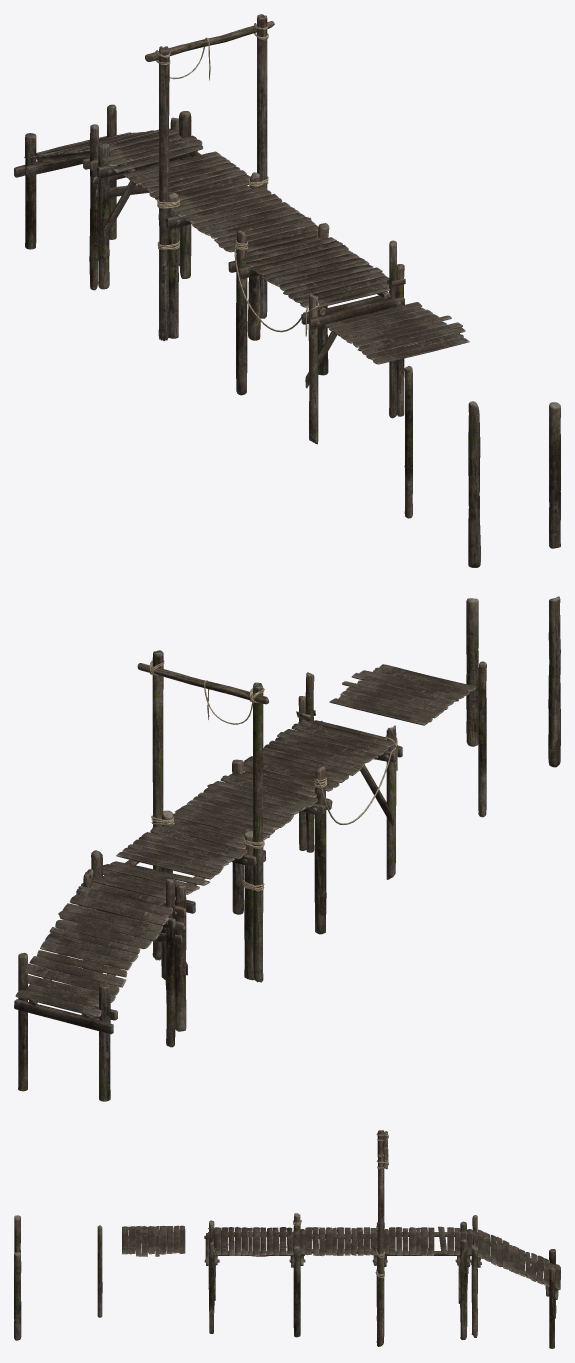
The model's file is pier_kit.glb.
3 views of the same model, one above another, from view 1: azimuth 30°, elevation 25°; view 2: azimuth 150°, elevation 25°; view 3: azimuth 270°, elevation 25° (orthographic). The views are drawn at different scales.
Visible parts, largest first — view 1: modular_wooden_pier_section_01, modular_wooden_pier_section_03, modular_wooden_pier_section_02, modular_wooden_pier_section_05, modular_wooden_pier_section_04, modular_wooden_pier_planks, modular_wooden_pier_poles; view 2: modular_wooden_pier_section_04, modular_wooden_pier_section_01, modular_wooden_pier_section_03, modular_wooden_pier_section_02, modular_wooden_pier_section_05, modular_wooden_pier_poles, modular_wooden_pier_planks; view 3: modular_wooden_pier_section_01, modular_wooden_pier_section_04, modular_wooden_pier_section_03, modular_wooden_pier_section_02, modular_wooden_pier_planks, modular_wooden_pier_section_05, modular_wooden_pier_poles.
Part boxes in pixels (box(x1,y1,x2,y2)): modular_wooden_pier_section_01: box(228, 223, 405, 444); modular_wooden_pier_section_03: box(89, 111, 250, 289); modular_wooden_pier_section_02: box(158, 172, 318, 340); modular_wooden_pier_section_05: box(145, 14, 274, 341); modular_wooden_pier_section_04: box(14, 104, 179, 290); modular_wooden_pier_planks: box(325, 302, 469, 364); modular_wooden_pier_poles: box(404, 366, 560, 567); modular_wooden_pier_section_04: box(14, 868, 175, 1101); modular_wooden_pier_section_01: box(225, 672, 402, 934); modular_wooden_pier_section_03: box(81, 827, 247, 1031); modular_wooden_pier_section_02: box(160, 775, 317, 980); modular_wooden_pier_section_05: box(137, 650, 269, 982); modular_wooden_pier_poles: box(466, 596, 560, 817); modular_wooden_pier_planks: box(329, 664, 476, 725); modular_wooden_pier_section_01: box(204, 1213, 305, 1337); modular_wooden_pier_section_04: box(471, 1215, 560, 1348); modular_wooden_pier_section_03: box(376, 1221, 473, 1339); modular_wooden_pier_section_02: box(292, 1222, 389, 1346); modular_wooden_pier_planks: box(122, 1225, 185, 1256); modular_wooden_pier_section_05: box(375, 1130, 388, 1337); modular_wooden_pier_poles: box(14, 1215, 102, 1340).
Bounding box in the file's own units: 3.1 × 7.52 × 19.03.
Materials: 2 (2 with a texture image).
